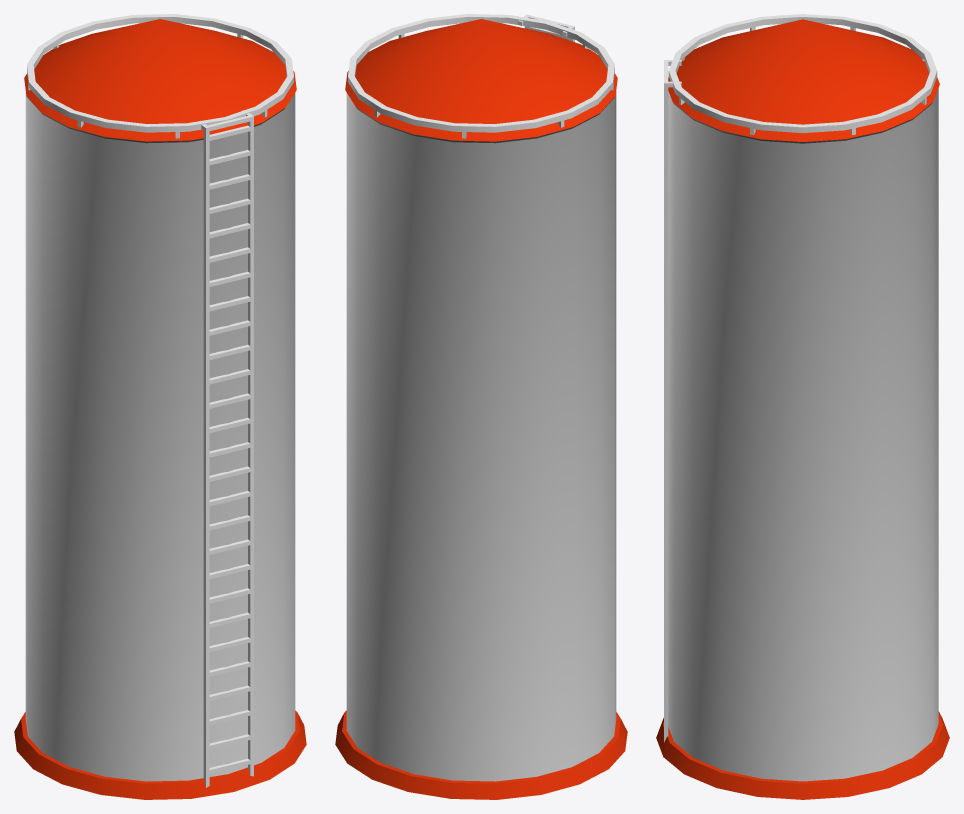
The model's file is Silo.fbx.
3 renders of one model, left to right at view 1: azimuth 30°, elevation 25°; view 2: azimuth 150°, elevation 25°; view 3: azimuth 270°, elevation 25°, orthographic.
Parts seen in each view (by area): view 1: building_grain_silo; view 2: building_grain_silo; view 3: building_grain_silo.
Boxes of the visible parts, x1,y1,x2,y2 form: building_grain_silo: (14,14,306,799); building_grain_silo: (335,14,627,799); building_grain_silo: (656,14,949,799).
Bounding box in the file's own units: 657 × 1773 × 657.
